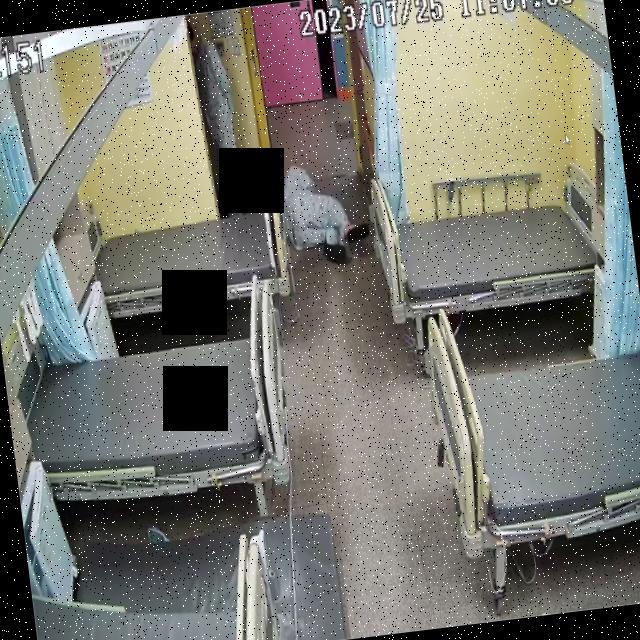bed: (420, 285, 640, 555), (17, 323, 296, 506), (368, 178, 616, 324), (91, 197, 291, 317)
fall: (276, 150, 376, 273)
patient: (188, 9, 246, 218), (278, 151, 374, 271)
